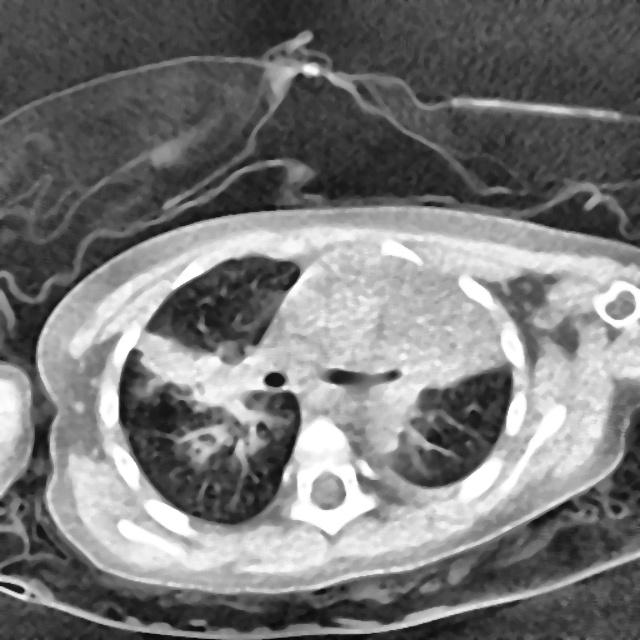covid: (35, 203, 638, 599)
